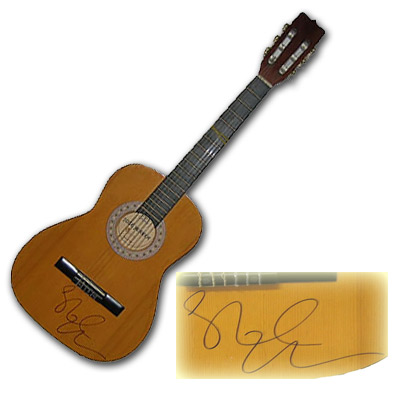guitar: (12, 13, 326, 363)
